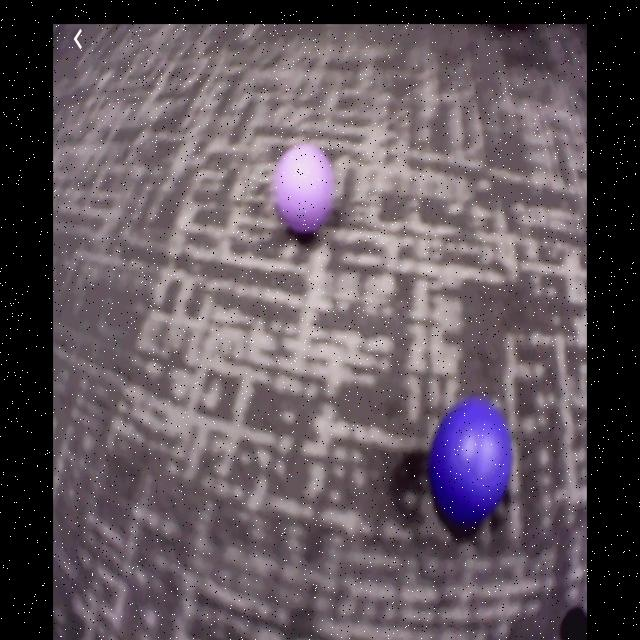ball: (436, 405, 511, 521), (279, 149, 338, 232)
